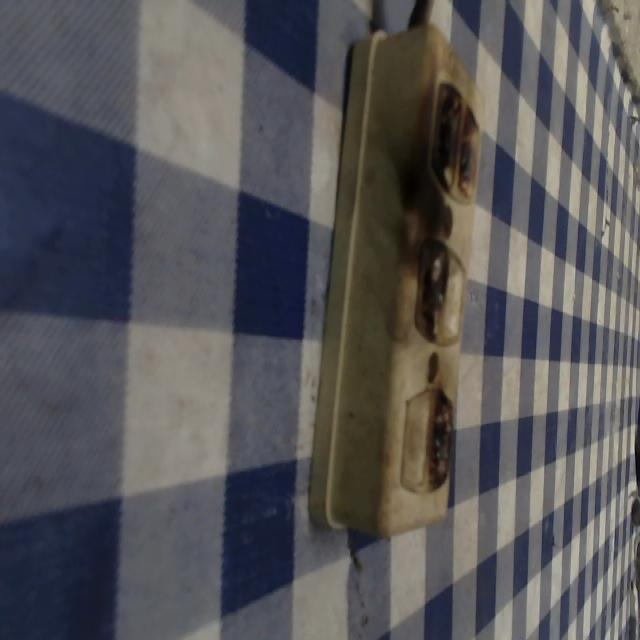-: (424, 75, 484, 204), (408, 232, 447, 340), (428, 383, 455, 488)
